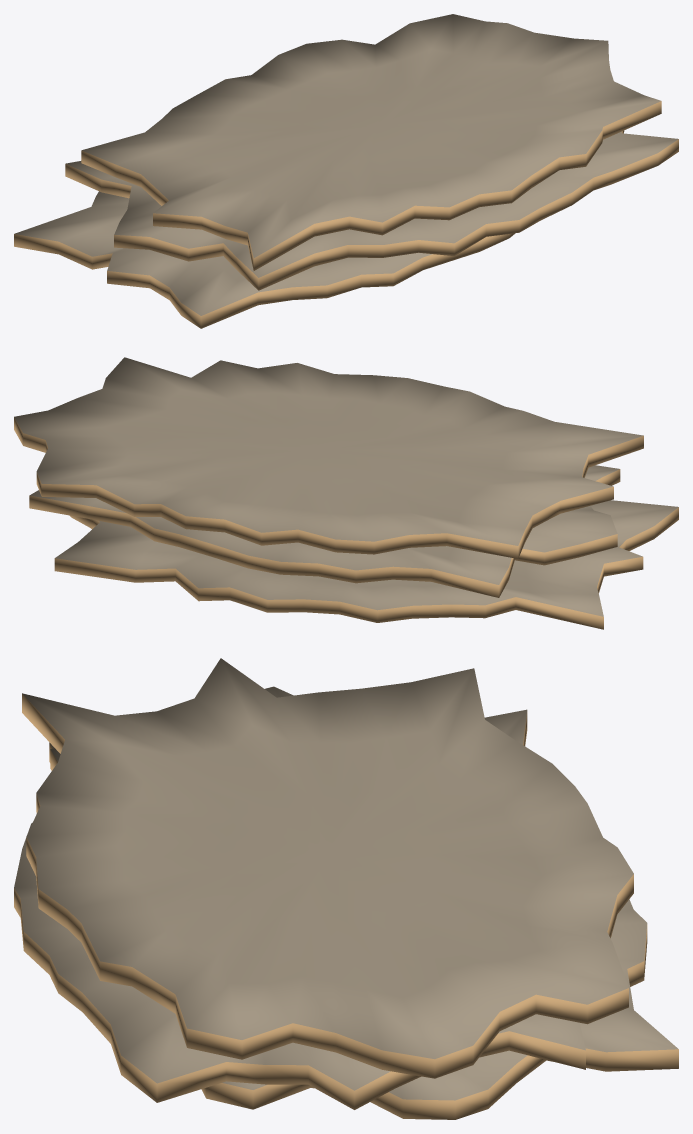
File: w3d_pelt_wolf_hide_m.glb
3 views of the same model, one above another, from view 1: azimuth 30°, elevation 25°; view 2: azimuth 150°, elevation 25°; view 3: azimuth 270°, elevation 25° (orthographic). The views are drawn at different scales.
Visible parts, largest first — view 1: w3d_pelt_wolf_hide_m; view 2: w3d_pelt_wolf_hide_m; view 3: w3d_pelt_wolf_hide_m.
Boxes of the visible parts, x1,y1,x2,y2 form: w3d_pelt_wolf_hide_m: (14, 14, 678, 328); w3d_pelt_wolf_hide_m: (14, 357, 678, 629); w3d_pelt_wolf_hide_m: (14, 658, 678, 1119).
Bounding box in the file's own units: 0.8676 × 0.1146 × 0.557.
